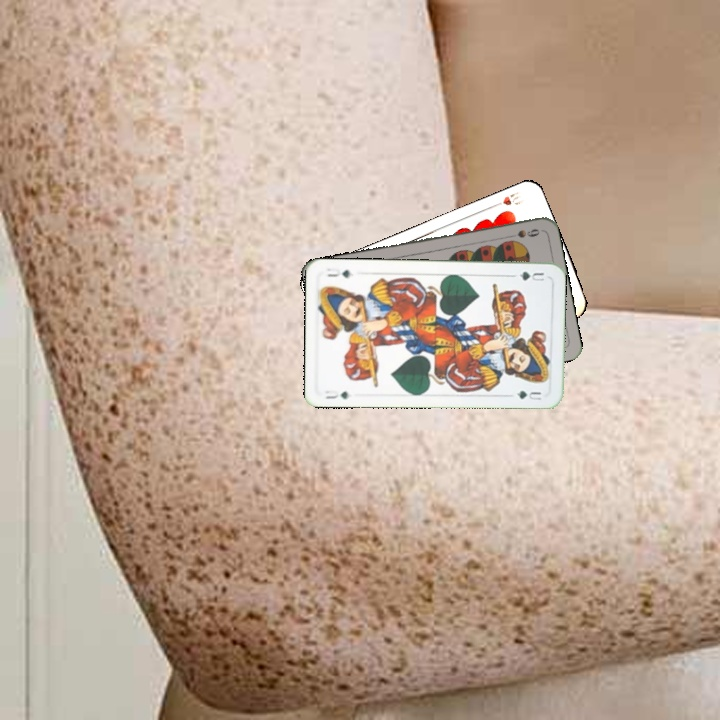GU: (515, 267, 548, 283), (321, 386, 351, 401)
H10: (488, 187, 525, 210)
S9: (502, 225, 542, 241)
